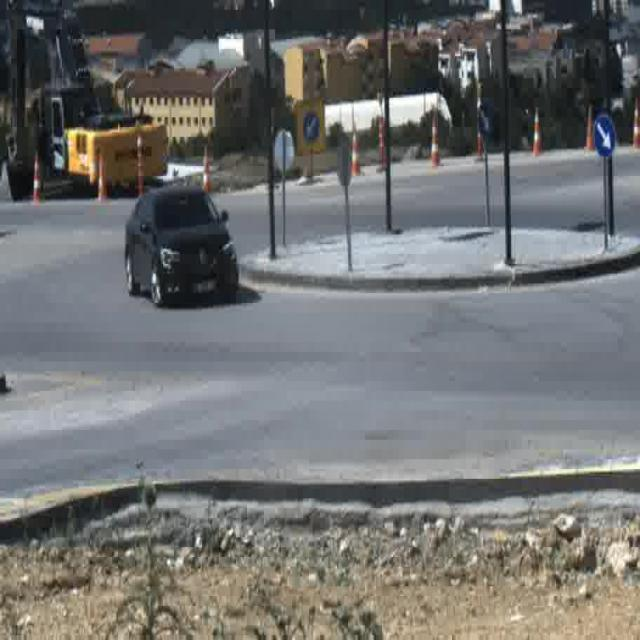Car: (124, 187, 237, 308)
